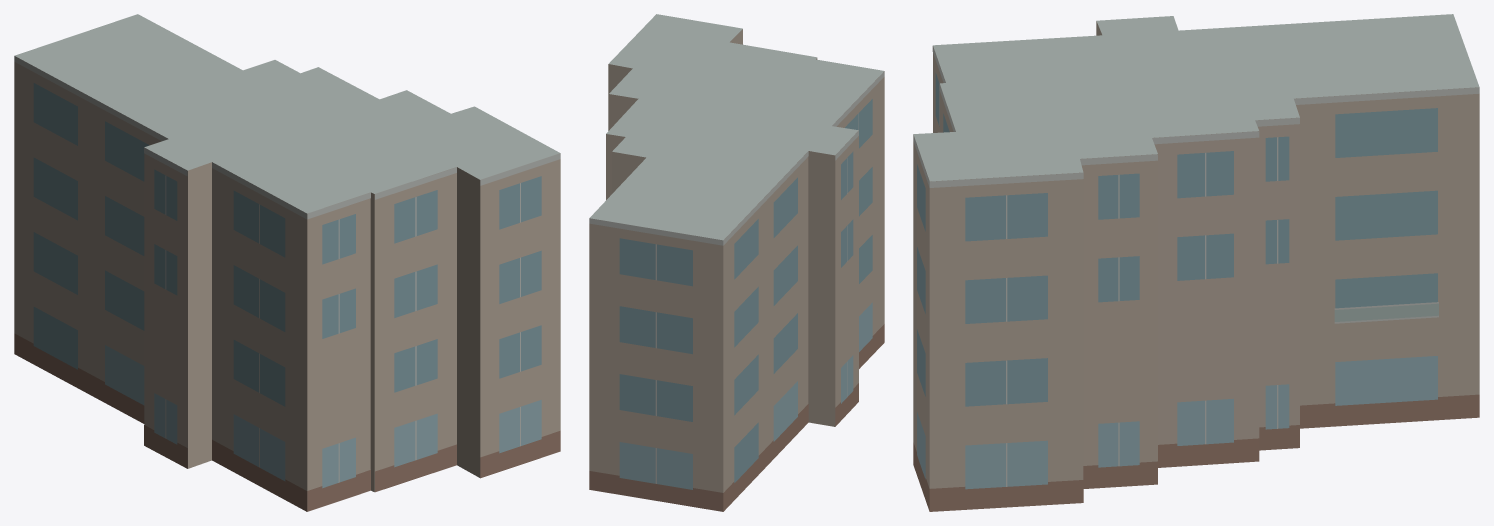
Rendered from survey-upis-32958946.glb.
3 views of the same model, side by side, from view 1: azimuth 30°, elevation 25°; view 2: azimuth 150°, elevation 25°; view 3: azimuth 270°, elevation 25° (orthographic). The views are drawn at different scales.
Visible parts, largest first — view 1: survey-upis-32958946.tmp; view 2: survey-upis-32958946.tmp; view 3: survey-upis-32958946.tmp.
Part boxes in pixels (<box>): survey-upis-32958946.tmp: <box>14,14,560,511</box>; survey-upis-32958946.tmp: <box>589,14,884,511</box>; survey-upis-32958946.tmp: <box>913,14,1479,511</box>.
Bounding box in the file's own units: 13.33 × 12.25 × 19.04.
